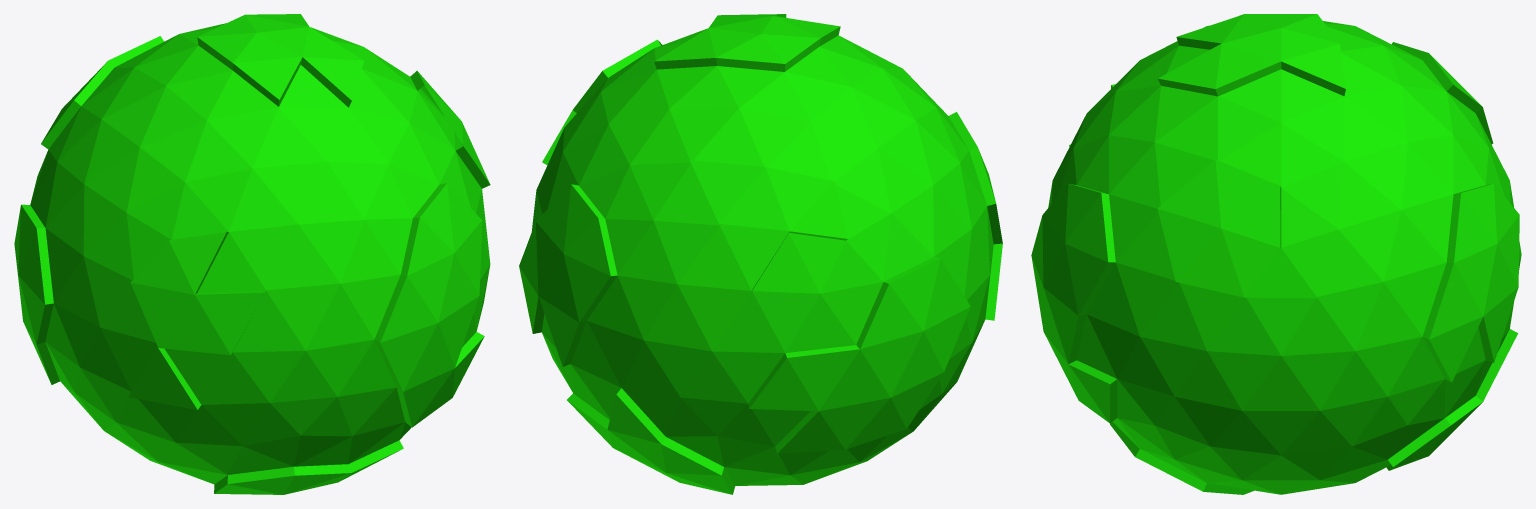
Rendered from GreenPlanet.glb.
3 views of the same model, side by side, from view 1: azimuth 30°, elevation 25°; view 2: azimuth 150°, elevation 25°; view 3: azimuth 270°, elevation 25° (orthographic). The views are drawn at different scales.
Visible parts, largest first — view 1: GreenPlanet; view 2: GreenPlanet; view 3: GreenPlanet.
Boxes of the visible parts, left/top/right/bottom form: GreenPlanet: left=14, top=14, right=490, bottom=494; GreenPlanet: left=519, top=14, right=1002, bottom=494; GreenPlanet: left=1031, top=14, right=1521, bottom=494.
Bounding box in the file's own units: 9.18 × 9.36 × 9.18.
